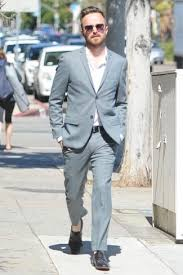F_M_suit jacket: (48, 48, 126, 145)
F_belt: (80, 120, 117, 140)
F_dress pants: (64, 124, 113, 250)
